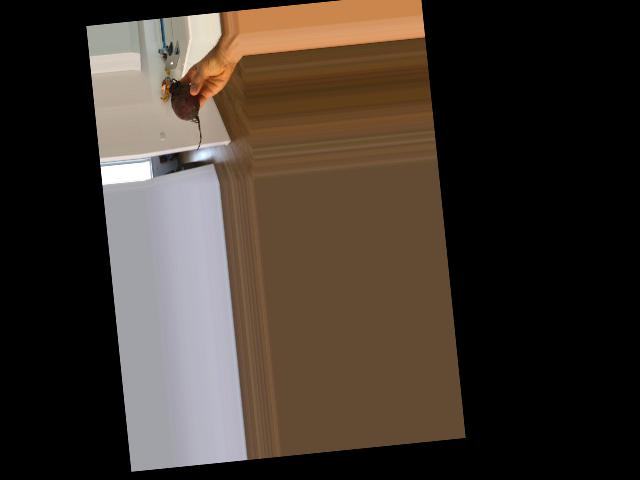beet: (168, 76, 204, 152)
